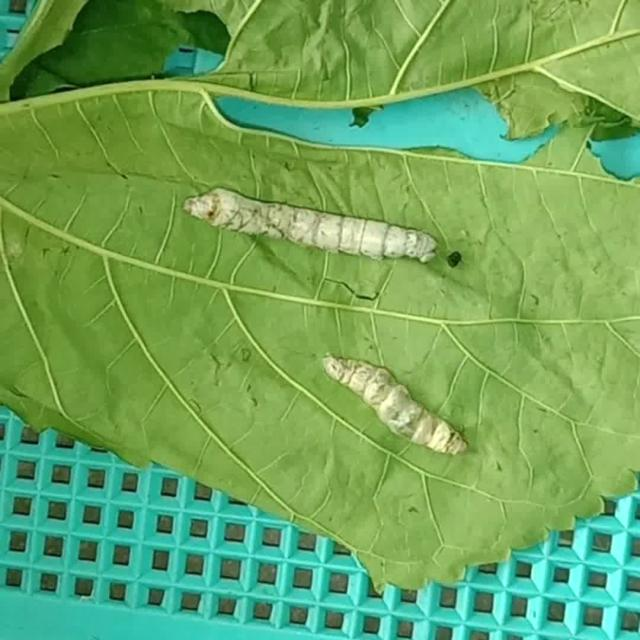Grasserie: (176, 159, 446, 289), (319, 342, 475, 467)
